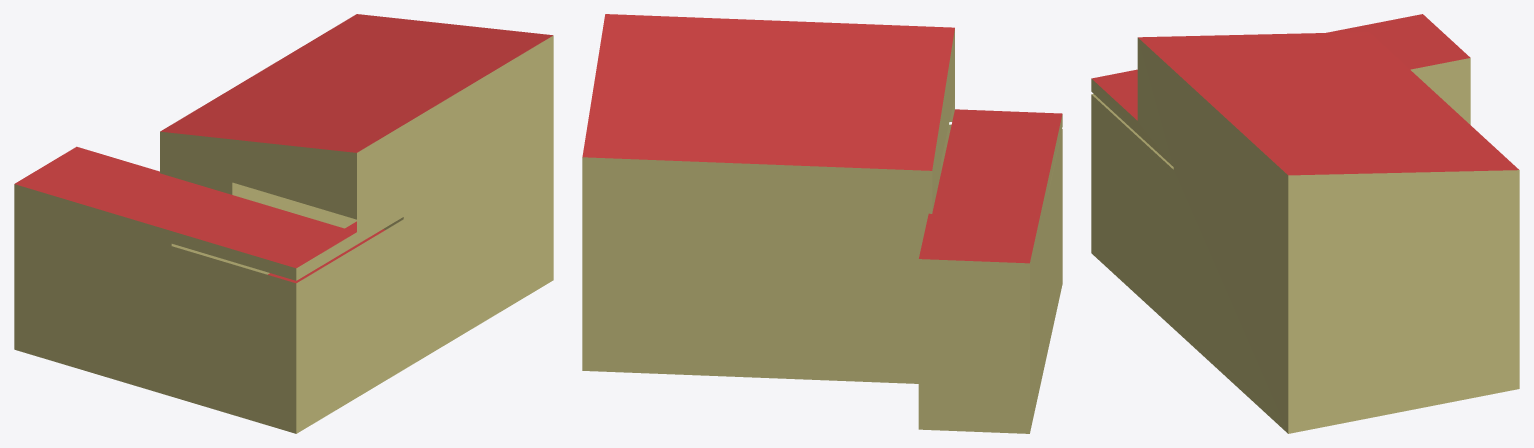
3 views of the same model, side by side, from view 1: azimuth 30°, elevation 25°; view 2: azimuth 150°, elevation 25°; view 3: azimuth 270°, elevation 25° (orthographic). The views are drawn at different scales.
Size of the model in its own units: 19.8 by 14.61 by 9.74.
